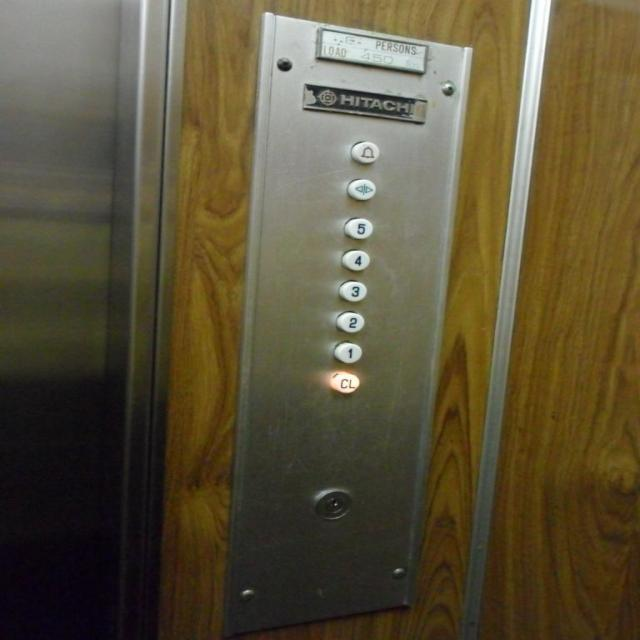1: (331, 338, 362, 366)
2: (333, 308, 365, 336)
3: (336, 276, 367, 304)
4: (339, 246, 371, 273)
5: (342, 214, 373, 241)
CL: (329, 368, 361, 396)
alarm: (349, 138, 381, 166)
keyhole: (310, 484, 356, 522)
open: (345, 174, 377, 202)
